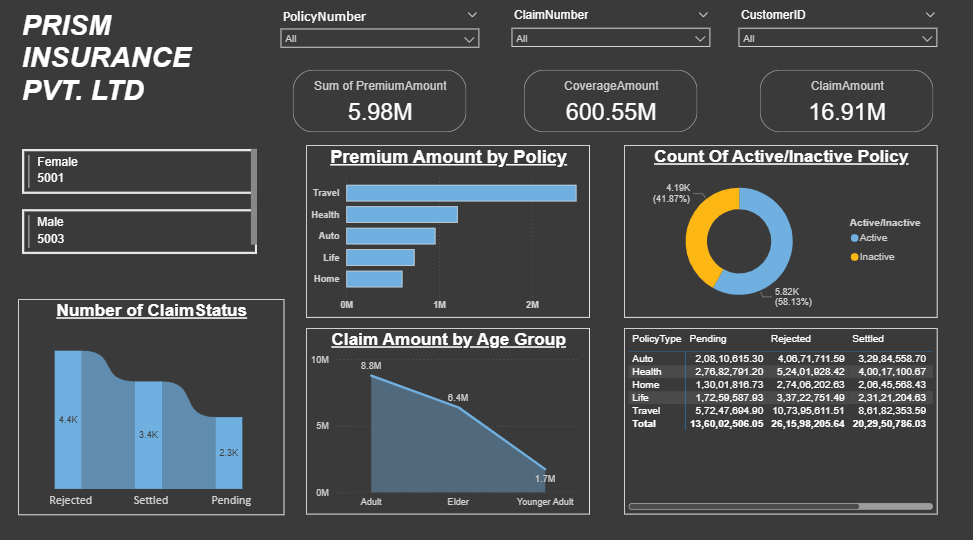

What the dashboard file says about the page in this screenshot:
{"tool":"powerbi","page":{"name":"Page 1","canvas":[1280,720],"ordinal":0},"visuals":[{"type":"slicer","fields":{"Values":["InsuranceData.PolicyNumber"]},"box":[359.2,13.8,280.8,70.2],"z":0},{"type":"slicer","fields":{"Values":["InsuranceData.ClaimNumber"]},"box":[662,13.8,280.8,70.2],"z":1000},{"type":"slicer","fields":{"Values":["InsuranceData.CustomerID"]},"box":[960.7,13.8,280.8,70.2],"z":2000},{"type":"textbox","box":[23.4,13.8,242.2,141.8],"z":3000},{"type":"cardVisual","fields":{"Data":["Sum(InsuranceData.PremiumAmount)"]},"box":[379.9,93.6,238.1,92.2],"z":4000},{"type":"cardVisual","fields":{"Data":["Sum(InsuranceData.CoverageAmount)"]},"box":[682.7,93.6,238.1,92.2],"z":5000},{"type":"cardVisual","fields":{"Data":["Sum(InsuranceData.ClaimAmount)"]},"box":[993.7,93.6,238.1,92.2],"z":6000},{"type":"multiRowCard","fields":{"Values":["InsuranceData.Gender","CountNonNull(InsuranceData.Gender)"]},"box":[23.4,196.8,319.3,151.4],"z":7000},{"type":"ribbonChart","title":"Number of ClaimStatus ","fields":{"Category":["InsuranceData.ClaimStatus"],"Y":["CountNonNull(InsuranceData.ClaimStatus)"]},"box":[23.4,399.1,349.6,283.5],"z":8000},{"type":"barChart","title":" Premium Amount by Policy","fields":{"Category":["InsuranceData.PolicyType"],"Y":["Sum(InsuranceData.PremiumAmount)"]},"box":[401.9,196.8,373,227.1],"z":9000},{"type":"lineChart","title":" Claim Amount by Age Group","fields":{"Category":["InsuranceData.Age Group"],"Y":["Sum(InsuranceData.ClaimAmount)"]},"box":[401.9,437.7,373,245],"z":10000},{"type":"donutChart","title":"Count Of Active/Inactive Policy","fields":{"Category":["InsuranceData.Active/Inactive"],"Y":["CountNonNull(InsuranceData.Active/Inactive)"]},"box":[820.3,196.8,411.5,227.1],"z":11000},{"type":"pivotTable","fields":{"Values":["Sum(InsuranceData.CoverageAmount)"],"Rows":["InsuranceData.PolicyType"],"Columns":["InsuranceData.ClaimStatus"]},"box":[820,438,412,245],"z":12000}]}

Visuals, with their boxes in screenshot pixels (x1, y1, x2, y2), scaled from the page's 1280x720 canvas onto the 973x540 screenshot:
slicer - InsuranceData.PolicyNumber: (273,10,486,63)
slicer - InsuranceData.ClaimNumber: (503,10,717,63)
slicer - InsuranceData.CustomerID: (730,10,944,63)
textbox: (18,10,202,117)
cardVisual - Sum(InsuranceData.PremiumAmount): (289,70,470,139)
cardVisual - Sum(InsuranceData.CoverageAmount): (519,70,700,139)
cardVisual - Sum(InsuranceData.ClaimAmount): (755,70,936,139)
multiRowCard - InsuranceData.Gender x CountNonNull(InsuranceData.Gender): (18,148,261,261)
"Number of ClaimStatus " ribbonChart: (18,299,284,512)
" Premium Amount by Policy" barChart: (306,148,589,318)
" Claim Amount by Age Group" lineChart: (306,328,589,512)
"Count Of Active/Inactive Policy" donutChart: (624,148,936,318)
pivotTable - Sum(InsuranceData.CoverageAmount) x InsuranceData.PolicyType: (623,328,937,512)
